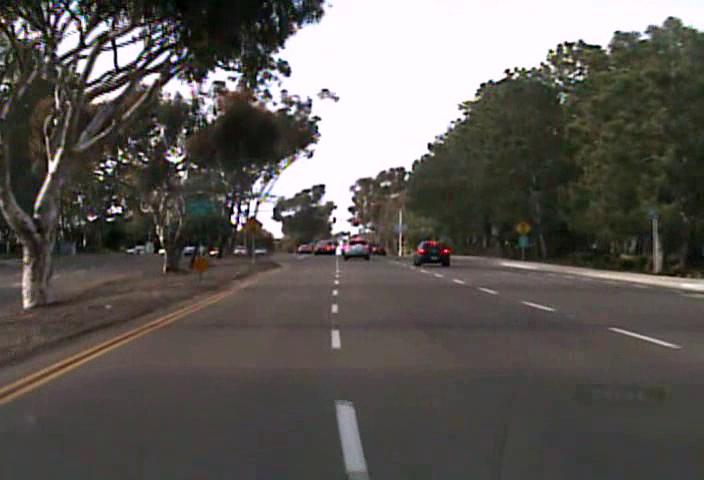signalAhead: (514, 219, 531, 237)
